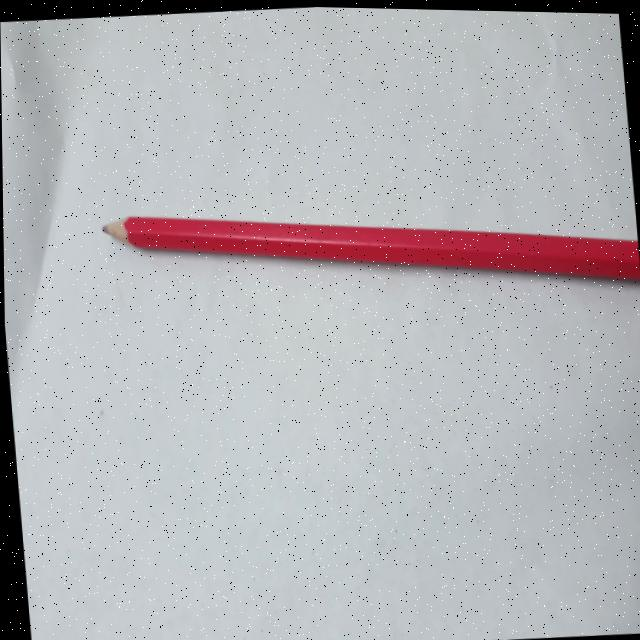pencil: (84, 159, 640, 335)
